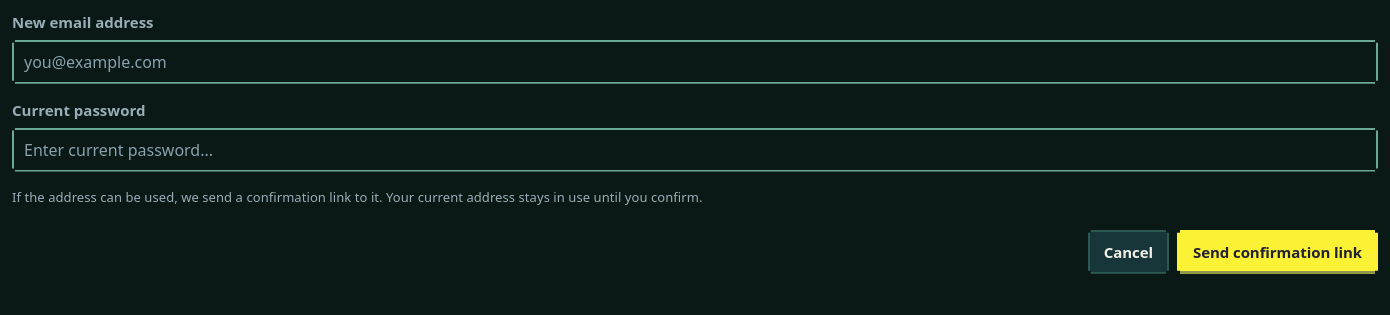
Scenario: ChangeEmailForm › the current address is refused before sending, whatever its case and spacing
The image size is (1390, 315).
In the field labelled "New email address": (695, 62) [12,40,1378,84], type " ANA@example.com "
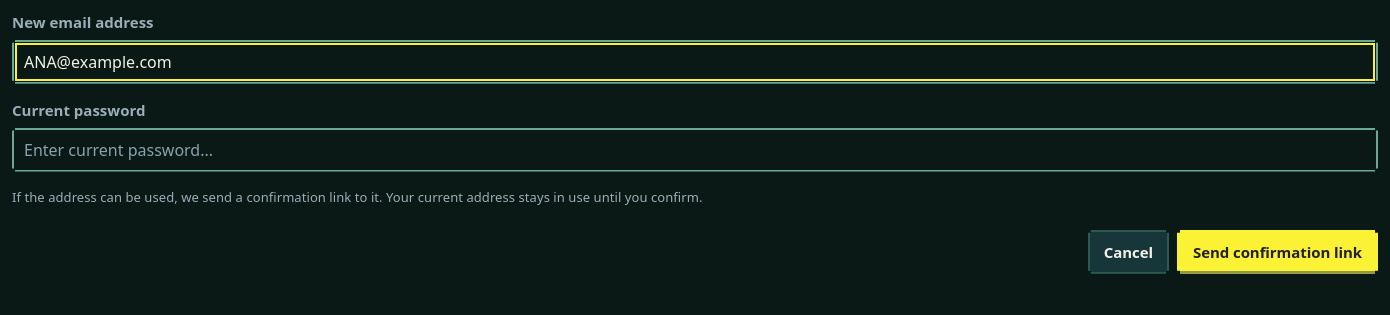
In the password field labelled "Current password": (695, 150) [12,128,1378,172], type "long-enough-1"
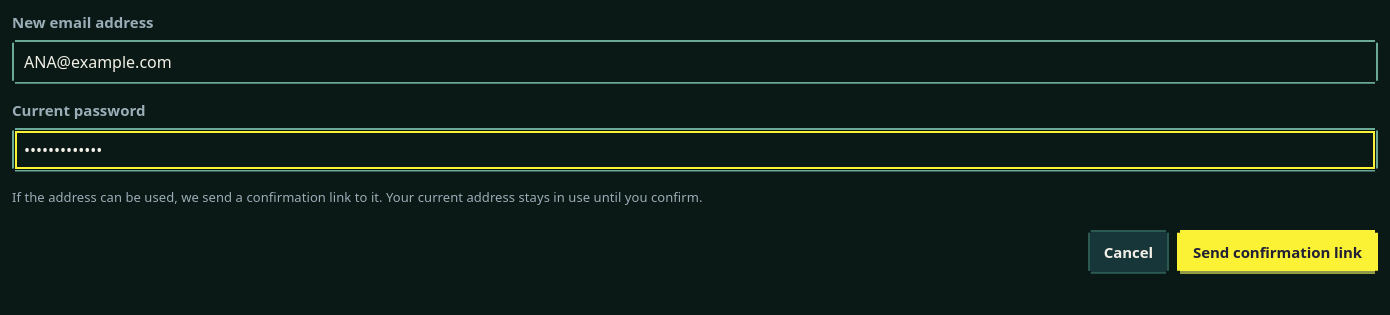
Click the button "Send confirmation link": (1278, 252) [1177,230,1378,274]
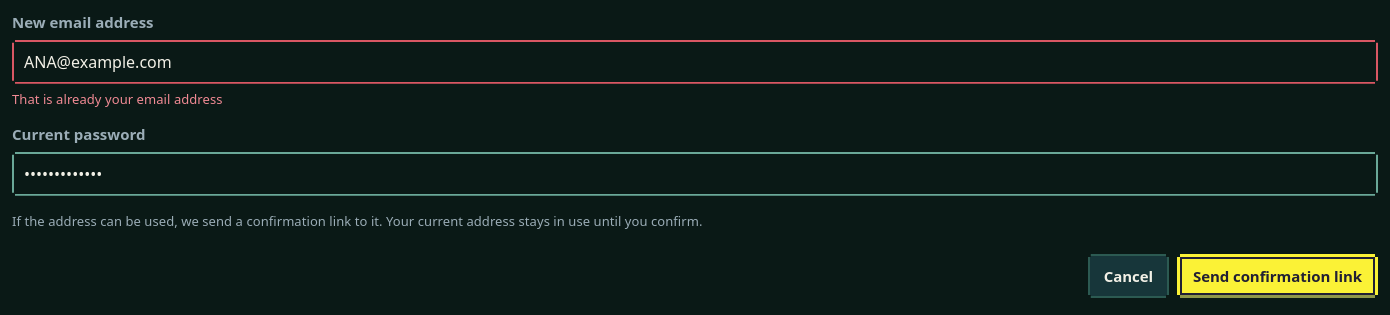
Expected: the text "That is already your email address" is shown, [12,90,222,108]
